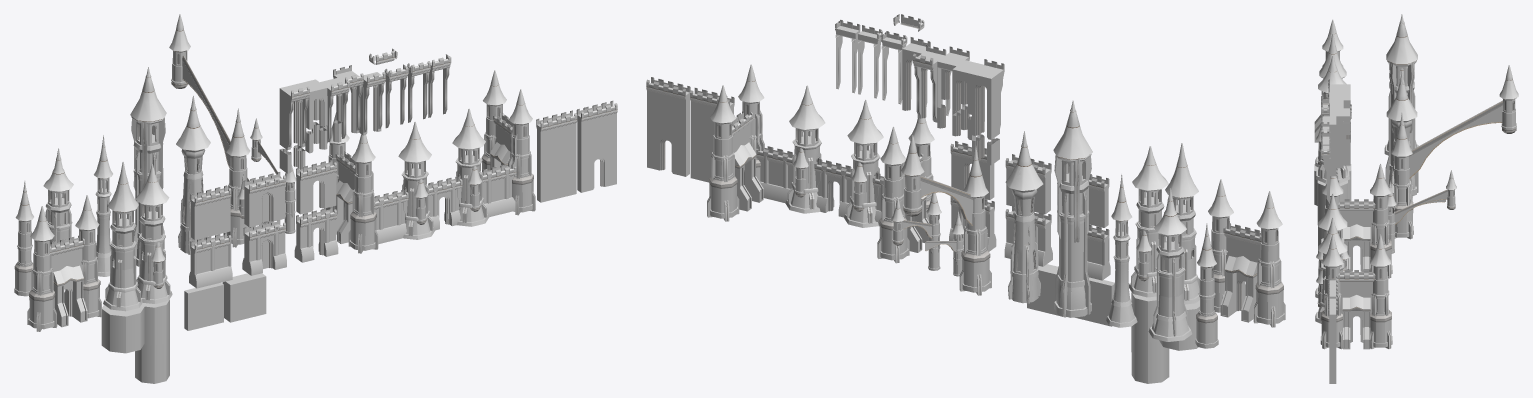
The model's file is Elven_Castle_and_Tower_1A1.fbx.
3 views of the same model, side by side, from view 1: azimuth 30°, elevation 25°; view 2: azimuth 150°, elevation 25°; view 3: azimuth 270°, elevation 25° (orthographic). The views are drawn at different scales.
Parts seen in each view (by area): view 1: Elven_Castle_Entrance_1A1, Elven_Castle_Entrance_1A2, Elven_Castle_Entrance_1A1.001, Elven_Wall_Tower_1A1, Elven_Castle_Piece_Wall_1B1, Elven_Wall_Tower_1A2, Elven_Castle_Piece_Entrance_1B1, Elven_Tower_1A4, Elven_Flying_Buttress_1A3, Elven_Tower_Bottom_1A2, Elven_Tower_1A5, Elven_Castle_Piece_Wall_1A4 (+31 smaller); view 2: Elven_Castle_Entrance_1A1, Elven_Castle_Entrance_1A2, Elven_Castle_Entrance_1A1.001, Elven_Tower_1A4, Elven_Flying_Buttress_1A3, Elven_Tower_1A2, Elven_Castle_Piece_Entrance_1B1, Elven_Tower_1A5, Elven_Wall_Tower_1A2, Elven_Tower_Bottom_1A2, Elven_Wall_Tower_1A1, Elven_Tower_1A4.001 (+29 smaller); view 3: Elven_Castle_Entrance_1A1, Elven_Flying_Buttress_1A3, Elven_Castle_Entrance_1A1.001, Elven_Tower_1A4, Elven_Flying_Buttress_1A3.001, Elven_Tower_1A5, Elven_Flying_Buttress_1A2, Elven_Wall_Tower_1A2, Bridge_Piece_1A5, Elven_Tower_1A4.001, Elven_Castle_Piece_Entrance_1B1, Elven_Tower_Bottom_1A2 (+12 smaller).
Part boxes in pixels (x1,y1,x2,y2): Elven_Castle_Entrance_1A1: (326,70,535,253); Elven_Castle_Entrance_1A2: (27,195,101,331); Elven_Castle_Entrance_1A1.001: (329,70,533,250); Elven_Wall_Tower_1A1: (103,162,142,311); Elven_Castle_Piece_Wall_1B1: (536,110,577,202); Elven_Wall_Tower_1A2: (135,164,172,303); Elven_Castle_Piece_Entrance_1B1: (577,100,617,192); Elven_Tower_1A4: (130,67,166,266); Elven_Flying_Buttress_1A3: (169,14,250,247); Elven_Tower_Bottom_1A2: (135,299,169,383); Elven_Tower_1A5: (176,96,210,254); Elven_Castle_Piece_Wall_1A4: (242,220,286,275); Elven_Castle_Entrance_1A1: (707,64,934,263); Elven_Castle_Entrance_1A2: (1208,179,1285,327); Elven_Castle_Entrance_1A1.001: (708,64,934,259); Elven_Tower_1A4: (1053,100,1092,317); Elven_Flying_Buttress_1A3: (901,136,991,295); Elven_Tower_1A2: (1148,188,1191,341); Elven_Castle_Piece_Entrance_1B1: (646,77,690,176); Elven_Tower_1A5: (1005,131,1043,303); Elven_Wall_Tower_1A2: (1129,146,1168,297); Elven_Tower_Bottom_1A2: (1131,292,1169,383); Elven_Wall_Tower_1A1: (1165,143,1199,304); Elven_Tower_1A4.001: (1054,101,1091,316); Elven_Castle_Entrance_1A1: (1315,164,1392,349); Elven_Flying_Buttress_1A3: (1390,65,1518,239); Elven_Castle_Entrance_1A1.001: (1315,163,1392,348); Elven_Tower_1A4: (1385,14,1417,195); Elven_Flying_Buttress_1A3.001: (1391,65,1518,238); Elven_Tower_1A5: (1386,71,1417,212); Elven_Flying_Buttress_1A2: (1387,170,1456,253); Elven_Wall_Tower_1A2: (1315,56,1350,183); Bridge_Piece_1A5: (1328,103,1351,168); Elven_Tower_1A4.001: (1385,15,1418,192); Elven_Castle_Piece_Entrance_1B1: (1328,293,1337,383); Elven_Tower_Bottom_1A2: (1317,180,1347,252).
Size of the model in its own units: 26005 by 11643 by 8569.
